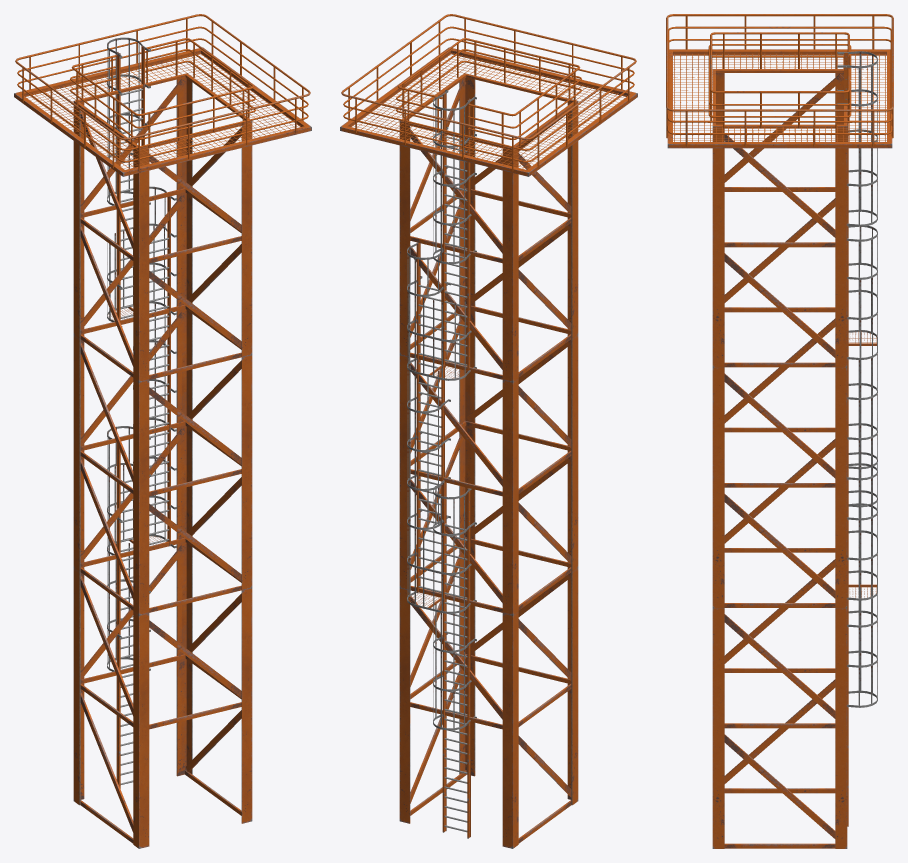
File: CraneLegSectionPrefab_02.fbx
The picture shows the model from 3 angles, left to right: view 1: azimuth 30°, elevation 25°; view 2: azimuth 150°, elevation 25°; view 3: azimuth 270°, elevation 25°; orthographic projection. The views are drawn at different scales.
Parts seen in each view (by area): view 1: Crane_Leg_Section_Prefab_02_LOD0; view 2: Crane_Leg_Section_Prefab_02_LOD0; view 3: Crane_Leg_Section_Prefab_02_LOD0.
Part boxes in pixels (x1=…): Crane_Leg_Section_Prefab_02_LOD0: x1=14, y1=14, x2=311, y2=848; Crane_Leg_Section_Prefab_02_LOD0: x1=340, y1=14, x2=637, y2=848; Crane_Leg_Section_Prefab_02_LOD0: x1=666, y1=14, x2=893, y2=848.
Size of what is drawn, in the model's own units: 5.15 by 19 by 5.15.
